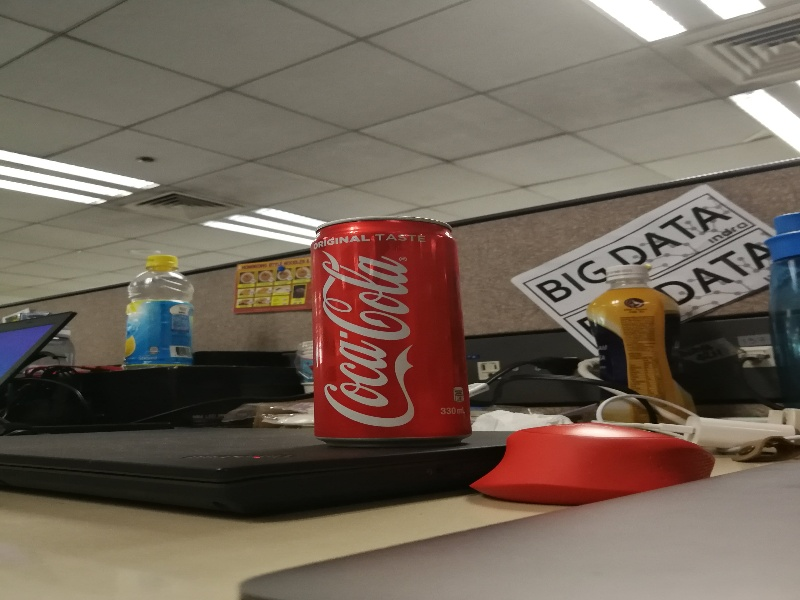PET #1: (590, 262, 703, 431), (123, 251, 197, 378)
